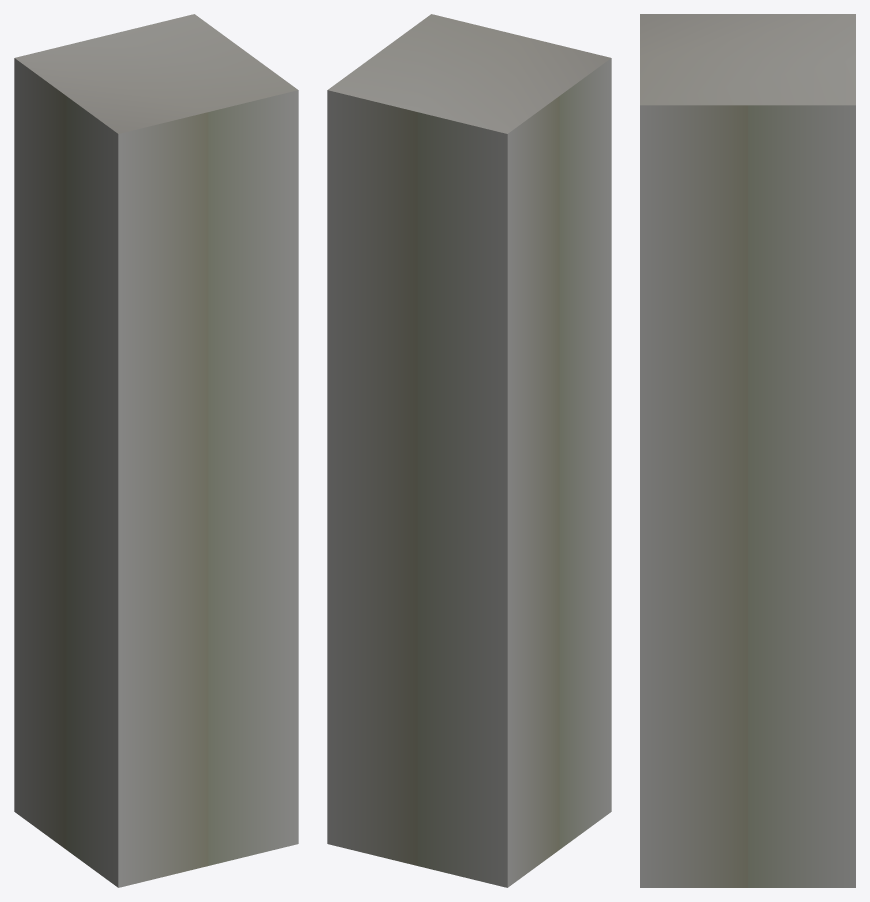
File: wall-b-column.glb
3 renders of one model, left to right at view 1: azimuth 30°, elevation 25°; view 2: azimuth 150°, elevation 25°; view 3: azimuth 270°, elevation 25°, orthographic. The views are drawn at different scales.
Parts seen in each view (by area): view 1: wall-b-column; view 2: wall-b-column; view 3: wall-b-column.
Boxes of the visible parts, x1=… form: wall-b-column: x1=14, y1=14, x2=298, y2=887; wall-b-column: x1=327, y1=14, x2=611, y2=887; wall-b-column: x1=640, y1=14, x2=855, y2=887.
Size of the model in its own units: 0.25 by 1 by 0.25.
